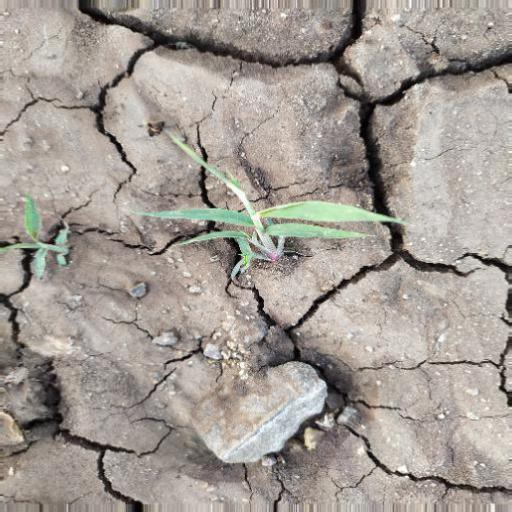weed: (127, 129, 409, 277)
